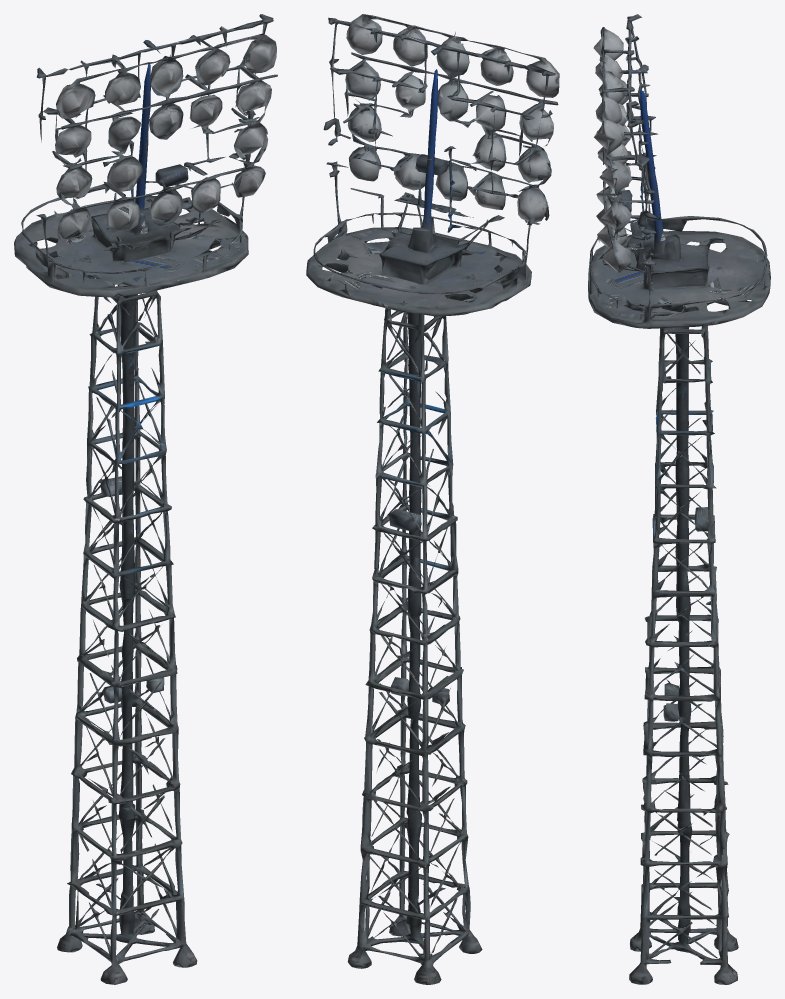
File: light_tower.glb
The picture shows the model from 3 angles, left to right: view 1: azimuth 30°, elevation 25°; view 2: azimuth 150°, elevation 25°; view 3: azimuth 270°, elevation 25°; orthographic projection. The views are drawn at different scales.
Visible parts, largest first — view 1: tripo_node_f12bf2af-6858-491b-9c94-3941cec3554c; view 2: tripo_node_f12bf2af-6858-491b-9c94-3941cec3554c; view 3: tripo_node_f12bf2af-6858-491b-9c94-3941cec3554c.
Boxes of the visible parts, x1,y1,x2,y2 form: tripo_node_f12bf2af-6858-491b-9c94-3941cec3554c: (14,14,277,984); tripo_node_f12bf2af-6858-491b-9c94-3941cec3554c: (306,14,559,984); tripo_node_f12bf2af-6858-491b-9c94-3941cec3554c: (588,14,770,984).
Size of the model in its own units: 0.2641 by 0.9955 by 0.184.
1 material, 1 textured.
